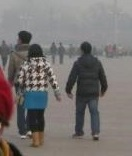person: (15, 43, 64, 148), (65, 40, 109, 143), (8, 30, 37, 139), (1, 40, 10, 71), (57, 40, 67, 67), (48, 40, 58, 66), (68, 44, 74, 58), (117, 44, 123, 58), (108, 44, 113, 58), (112, 44, 117, 57), (104, 44, 108, 58), (97, 48, 104, 56), (92, 45, 97, 56)
